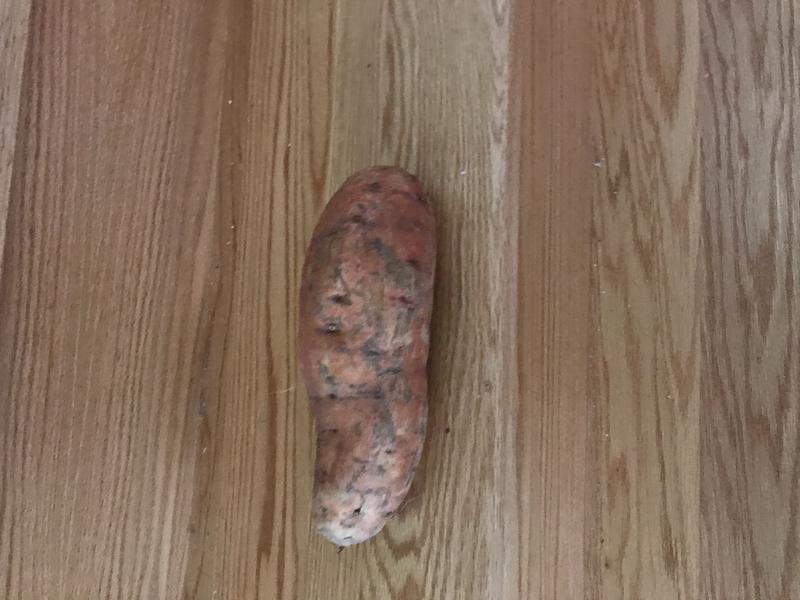sweet_potato: (295, 149, 446, 561)
